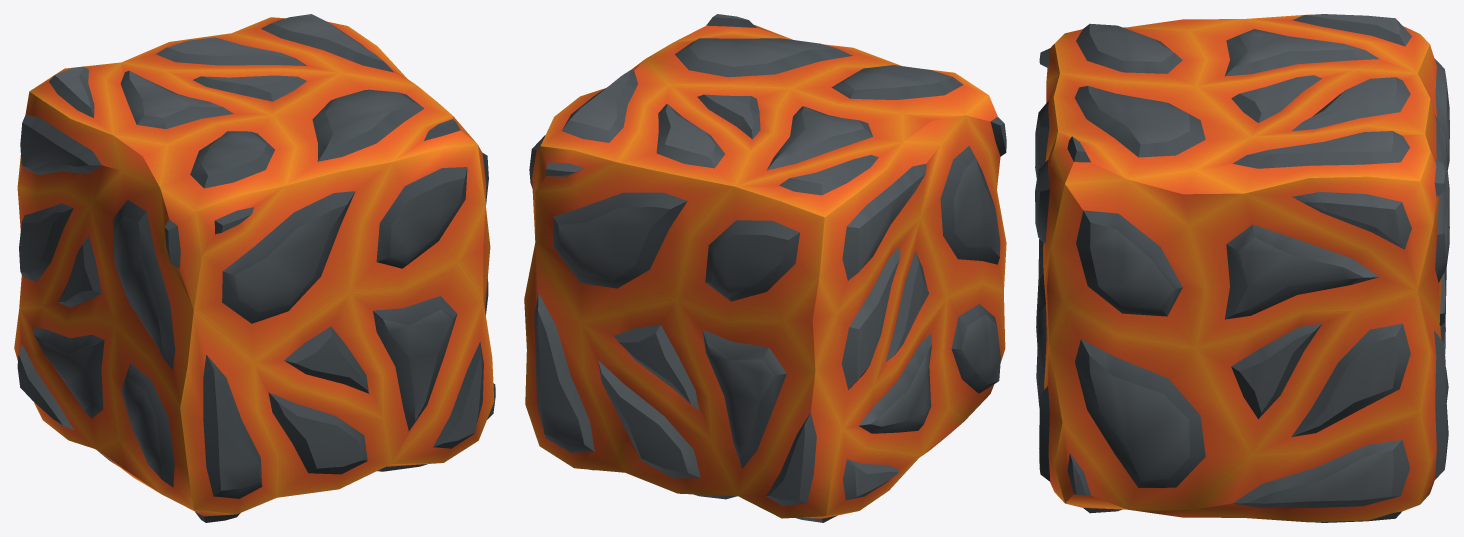
Rendered from lava.glb.
3 views of the same model, side by side, from view 1: azimuth 30°, elevation 25°; view 2: azimuth 150°, elevation 25°; view 3: azimuth 270°, elevation 25° (orthographic). The views are drawn at different scales.
Parts seen in each view (by area): view 1: lava; view 2: lava; view 3: lava.
Boxes of the visible parts, box(x1,y1,x2,y2) form: lava: box(14, 14, 495, 522); lava: box(524, 14, 1006, 522); lava: box(1035, 14, 1449, 522).
Bounding box in the file's own units: 2.01 × 2.01 × 2.01.
Materials: 1 (1 with a texture image).
